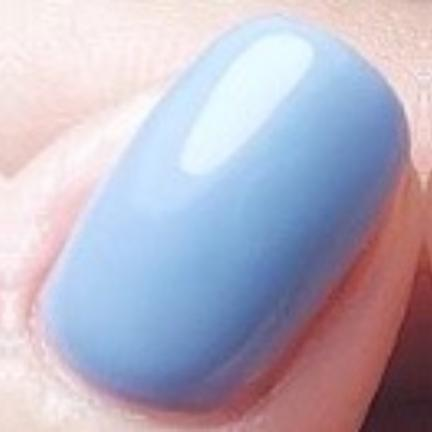Nail: (34, 15, 412, 417)
